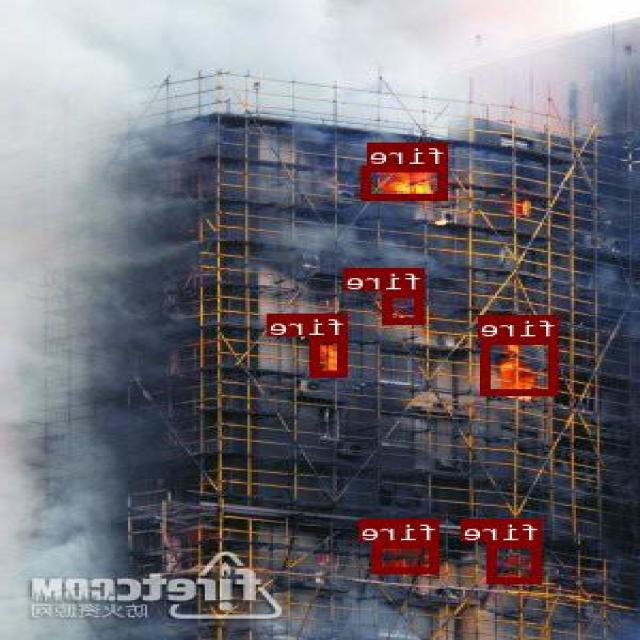fire: (482, 338, 560, 394), (364, 164, 448, 199), (489, 541, 544, 581), (375, 540, 440, 572), (313, 335, 348, 376), (385, 290, 425, 323)
